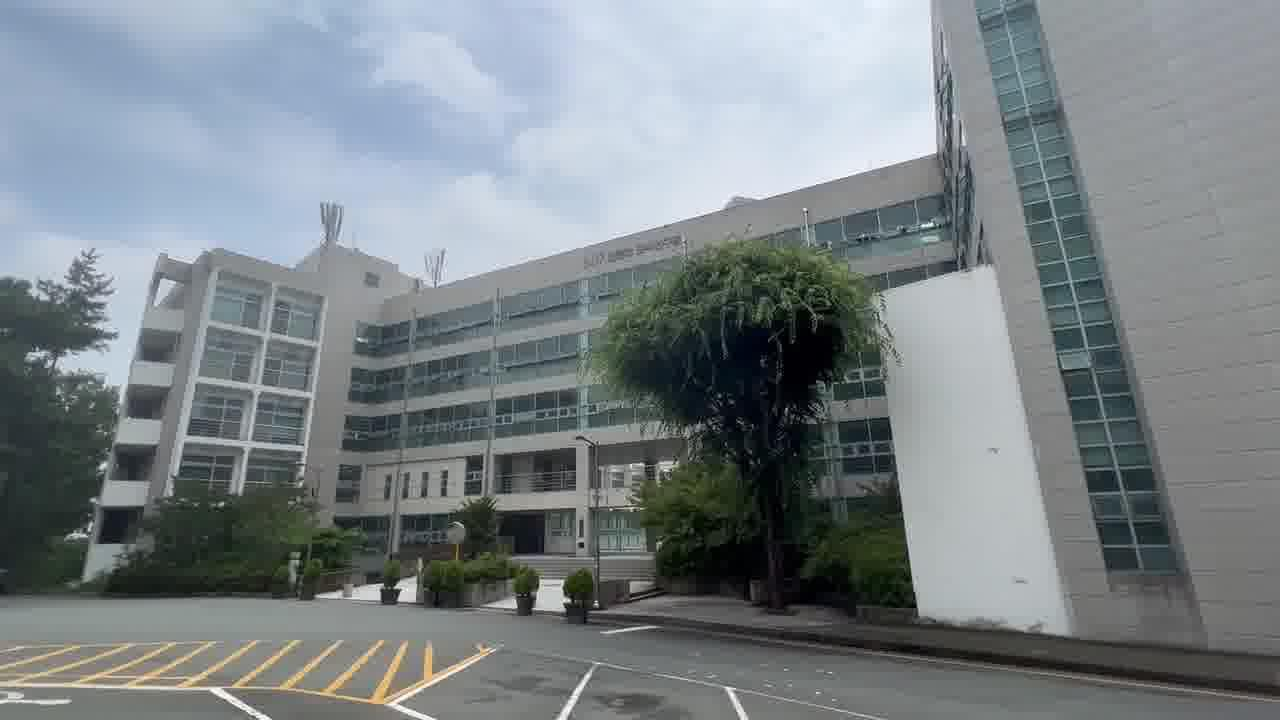building: (133, 202, 608, 499)
